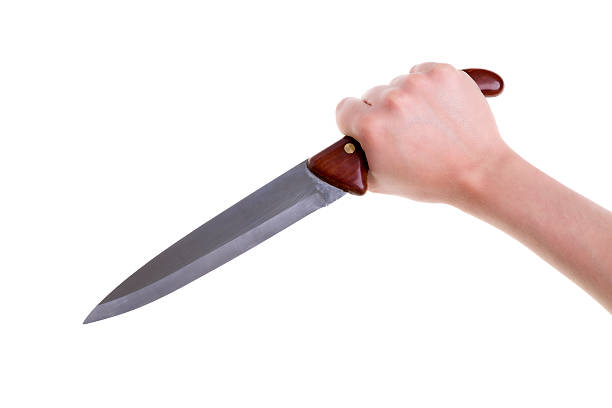knife: (79, 65, 506, 323)
